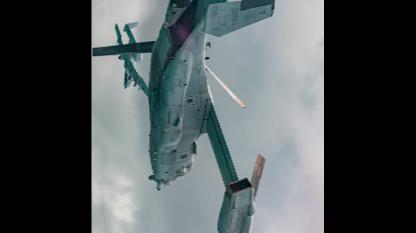A10: (114, 21, 148, 98)
Tornado: (92, 0, 325, 231)
